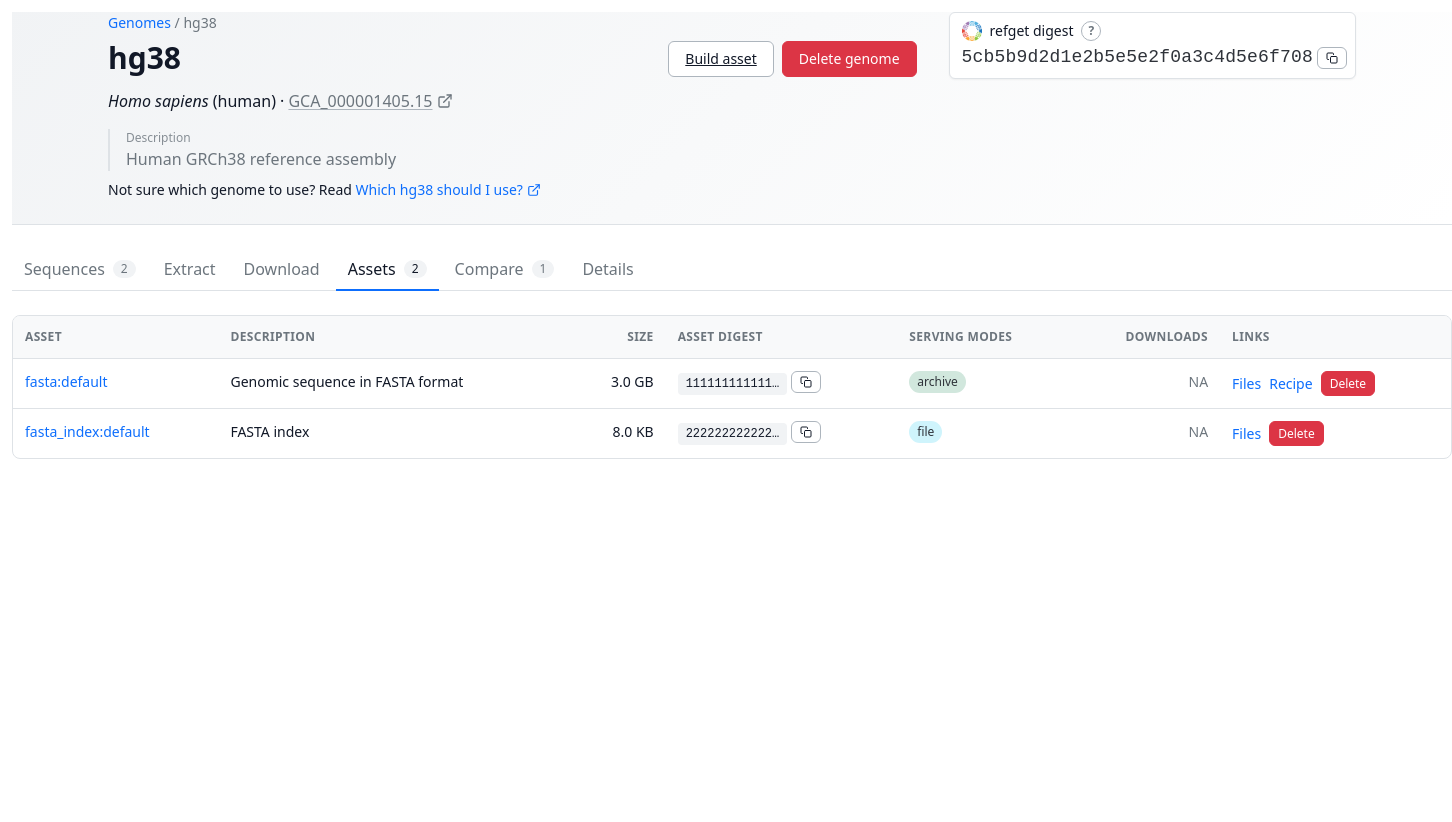
GenomePage › offers the FASTA download on the Download tab, not in the head
The image size is (1452, 822).
Click the tab "Download". click: (282, 270)
box: [232, 249, 332, 291]
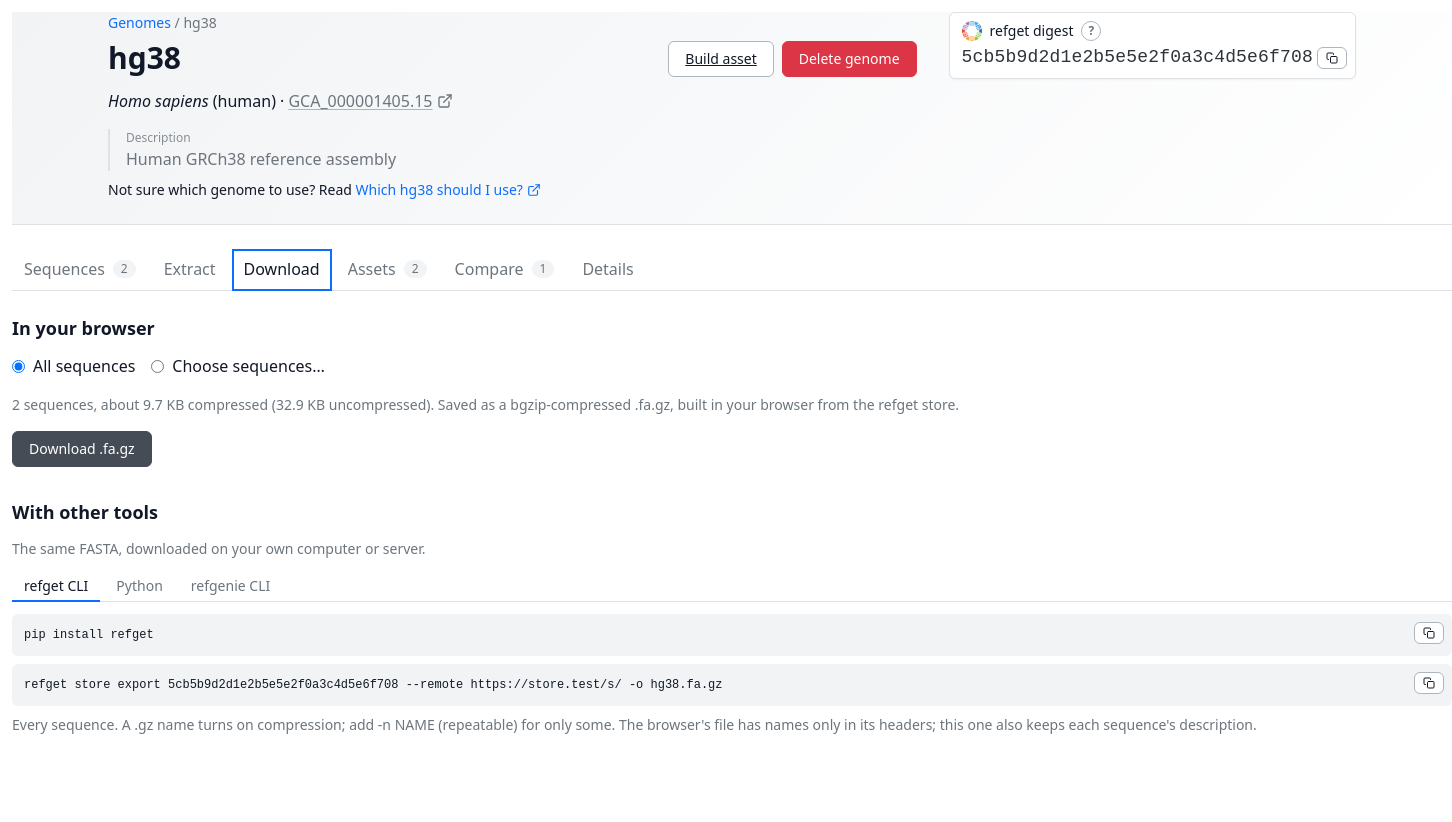
Expected: the button "Download .fa.gz" is shown, [12, 431, 152, 466]
Expected: the radio button labelled "All sequences" is checked, [12, 360, 25, 372]
Expected: the tab "refget CLI" is shown, [12, 570, 100, 602]
